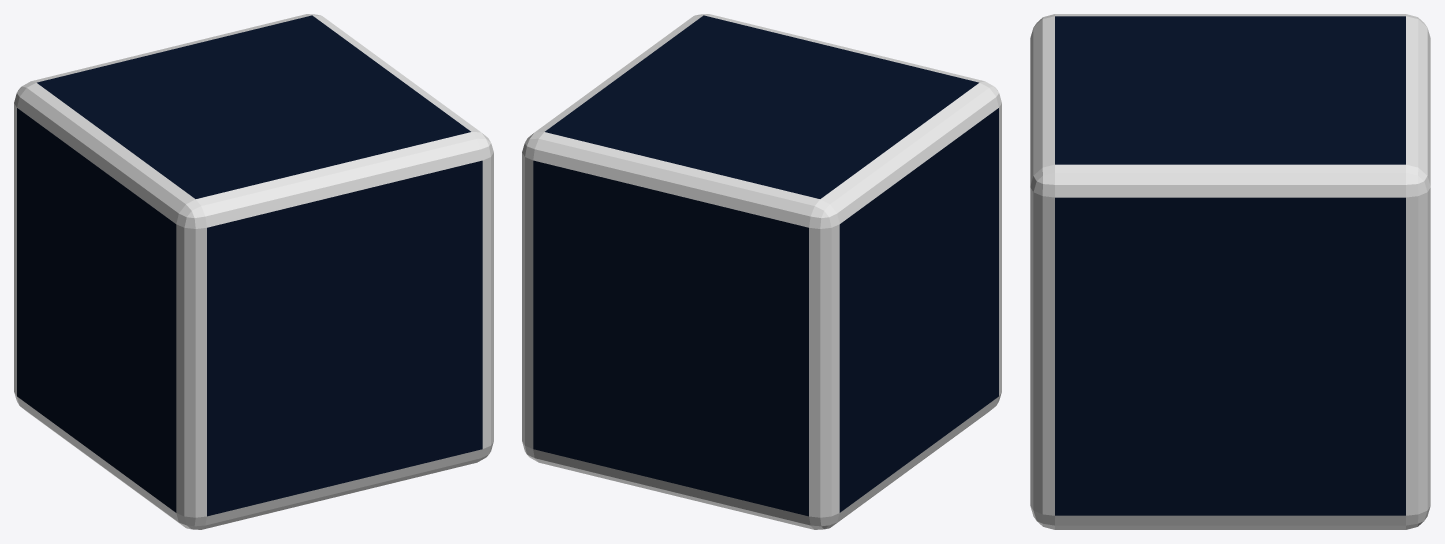
File: modular box.fbx
3 views of the same model, side by side, from view 1: azimuth 30°, elevation 25°; view 2: azimuth 150°, elevation 25°; view 3: azimuth 270°, elevation 25° (orthographic). The views are drawn at different scales.
Visible parts, largest first — view 1: Cube; view 2: Cube; view 3: Cube.
Boxes of the visible parts, bbox=[...] form: Cube: bbox=[14, 14, 493, 529]; Cube: bbox=[522, 14, 1001, 529]; Cube: bbox=[1030, 14, 1430, 529].
Size of the model in its own units: 200 by 200 by 200.
